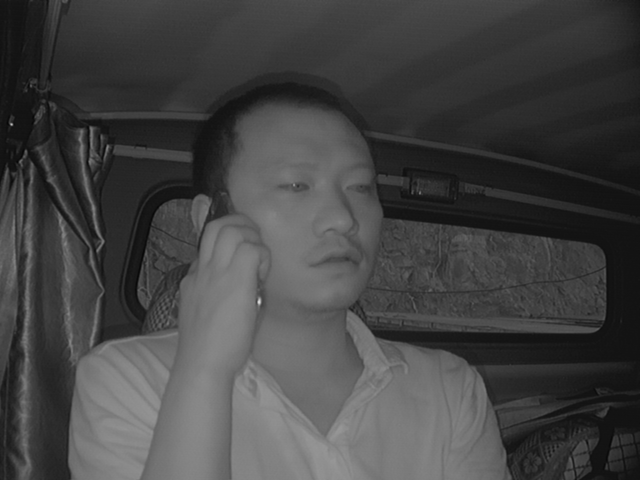hand: (174, 217, 269, 369)
